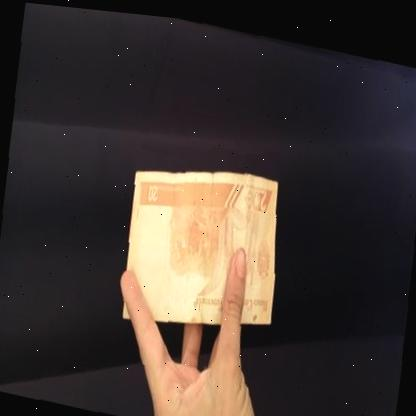twenty-back-vef: (116, 144, 288, 349)
